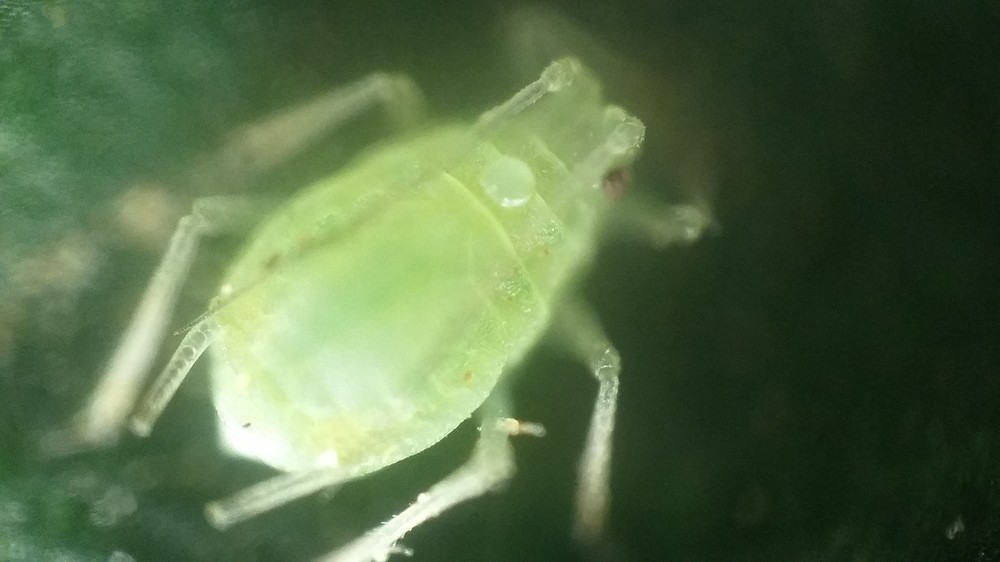Pulgon: (77, 35, 748, 550)
